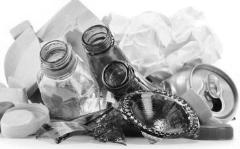glass: (83, 26, 199, 148)
